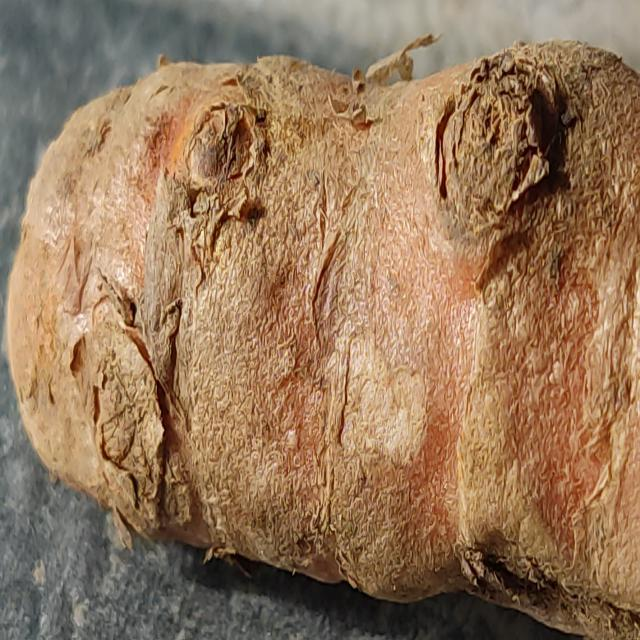ginger: (11, 24, 640, 602)
